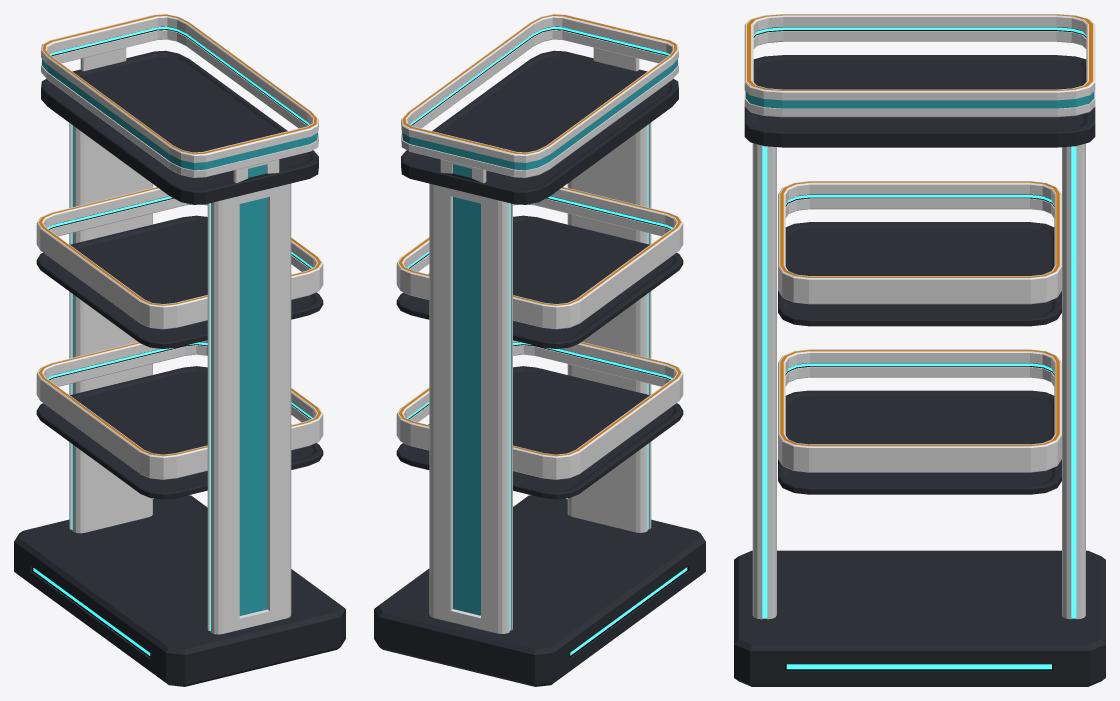
File: SM_Medical_Storage_Shelf.fbx
3 views of the same model, side by side, from view 1: azimuth 30°, elevation 25°; view 2: azimuth 150°, elevation 25°; view 3: azimuth 270°, elevation 25° (orthographic). The views are drawn at different scales.
Visible parts, largest first — view 1: SM_Medical_Storage_Shelf.001; view 2: SM_Medical_Storage_Shelf.001; view 3: SM_Medical_Storage_Shelf.001.
Part boxes in pixels (bbox=[...]): SM_Medical_Storage_Shelf.001: bbox=[14, 14, 345, 686]; SM_Medical_Storage_Shelf.001: bbox=[374, 14, 705, 686]; SM_Medical_Storage_Shelf.001: bbox=[734, 14, 1105, 686].
Bounding box in the file's own units: 25 × 69.71 × 40.
